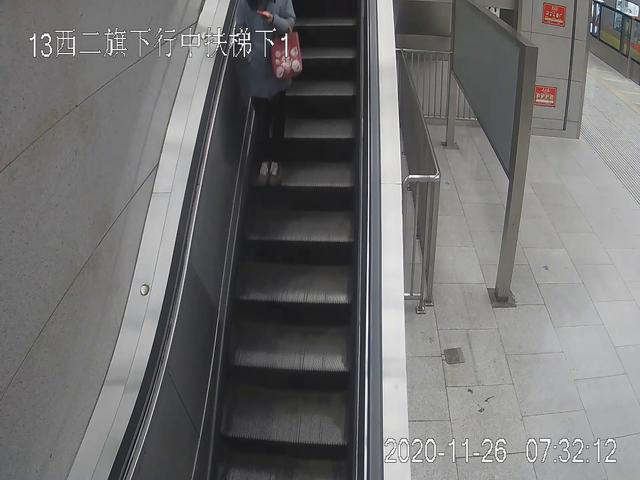person: (233, 1, 301, 188)
